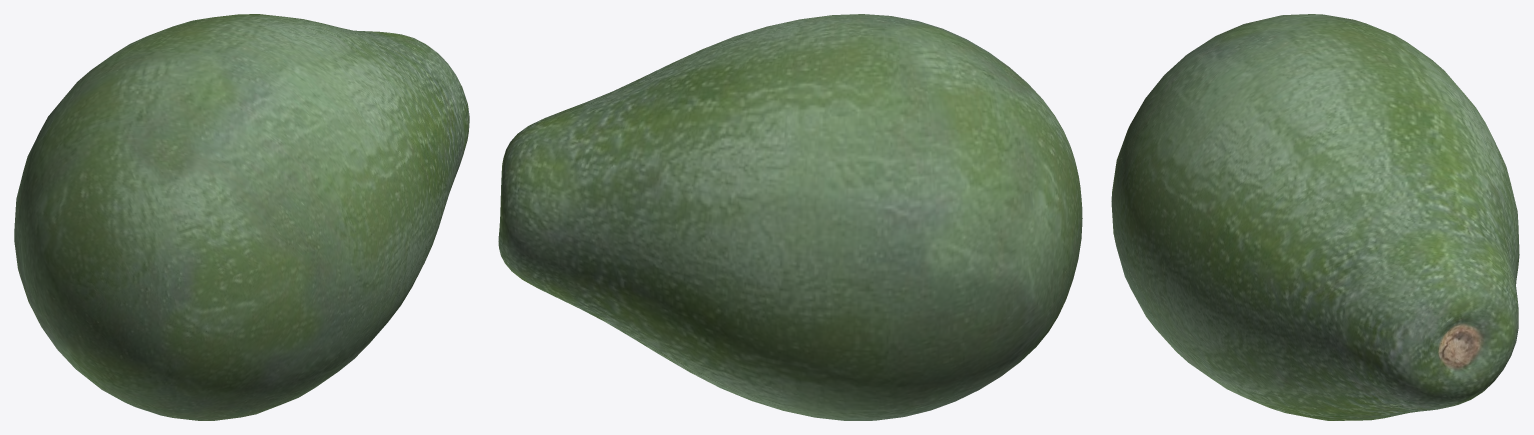
The model's file is GreenAvocadoPeel.obj.
3 views of the same model, side by side, from view 1: azimuth 30°, elevation 25°; view 2: azimuth 150°, elevation 25°; view 3: azimuth 270°, elevation 25° (orthographic). The views are drawn at different scales.
Visible parts, largest first — view 1: GreenAvocadoPeel; view 2: GreenAvocadoPeel; view 3: GreenAvocadoPeel.
Part boxes in pixels (<box>): GreenAvocadoPeel: <box>14,14,469,420</box>; GreenAvocadoPeel: <box>498,14,1082,420</box>; GreenAvocadoPeel: <box>1111,14,1519,420</box>.
Bounding box in the file's own units: 0.1076 × 0.0772 × 0.0798.
Materials: 1 (1 with a texture image).
